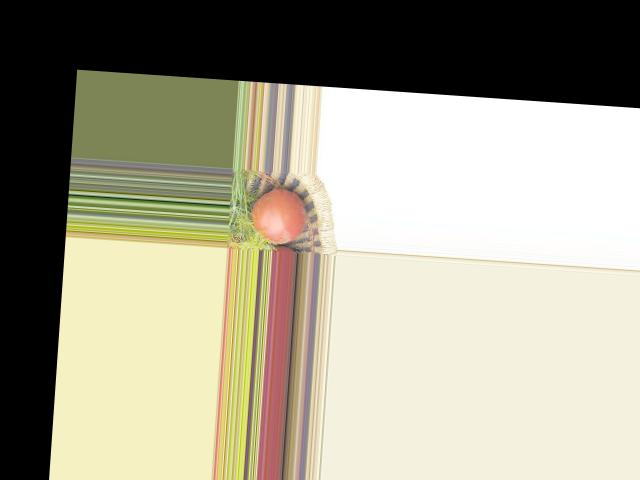tomato: (248, 187, 308, 245)
